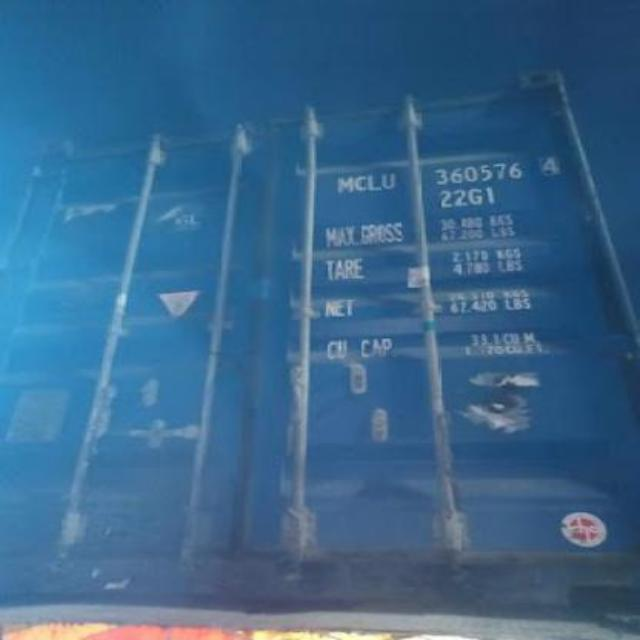0: (462, 162, 478, 182)
3: (430, 163, 448, 189)
4: (540, 154, 558, 176)
5: (476, 160, 494, 184)
6: (508, 154, 522, 184), (448, 158, 462, 186)
7: (492, 156, 506, 182)
C: (354, 171, 368, 197)
L: (366, 166, 382, 194)
M: (332, 172, 356, 198)
U: (380, 162, 396, 190)
